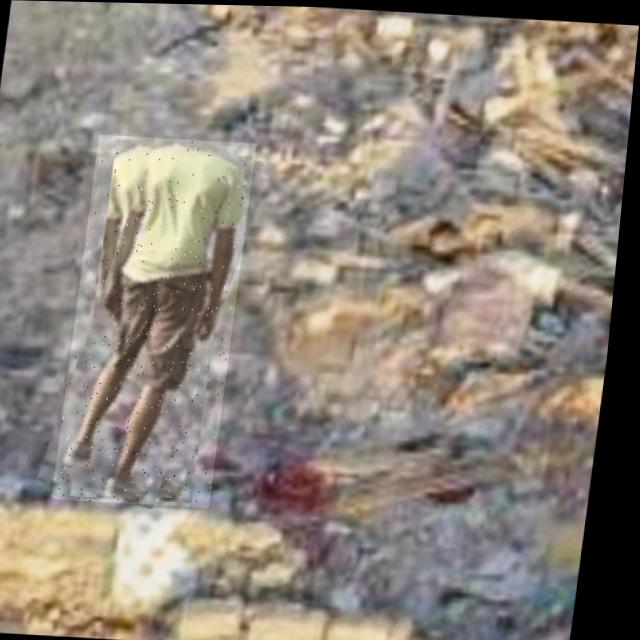Person in Rubble: (60, 134, 259, 507)
